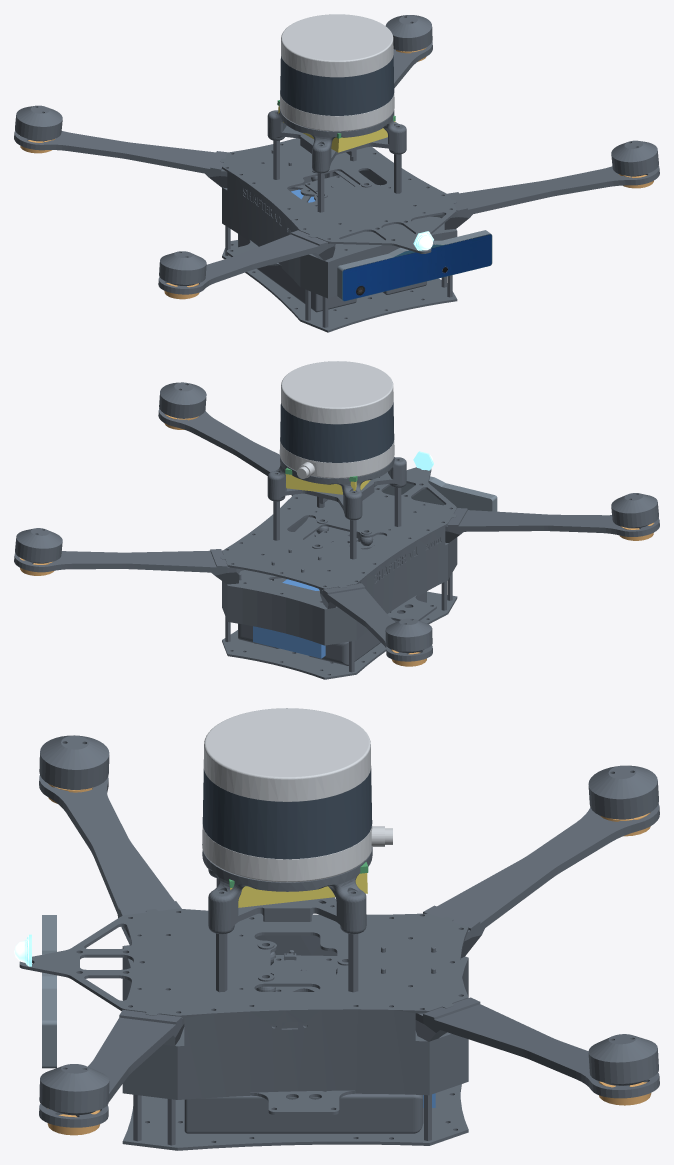
Rendered from drone.glb.
3 renders of one model, top to bottom at view 1: azimuth 30°, elevation 25°; view 2: azimuth 150°, elevation 25°; view 3: azimuth 270°, elevation 25°, orthographic. The views are drawn at different scales.
Visible parts, largest first — view 1: Shafter_SKY_GHOST; view 2: Shafter_SKY_GHOST; view 3: Shafter_SKY_GHOST.
Part boxes in pixels (x1,y1,x2,y2): Shafter_SKY_GHOST: (14,14,659,332); Shafter_SKY_GHOST: (14,361,659,679); Shafter_SKY_GHOST: (14,708,659,1150).
Bounding box in the file's own units: 1.16 × 0.5345 × 0.8825.
11 materials, 2 textured.
